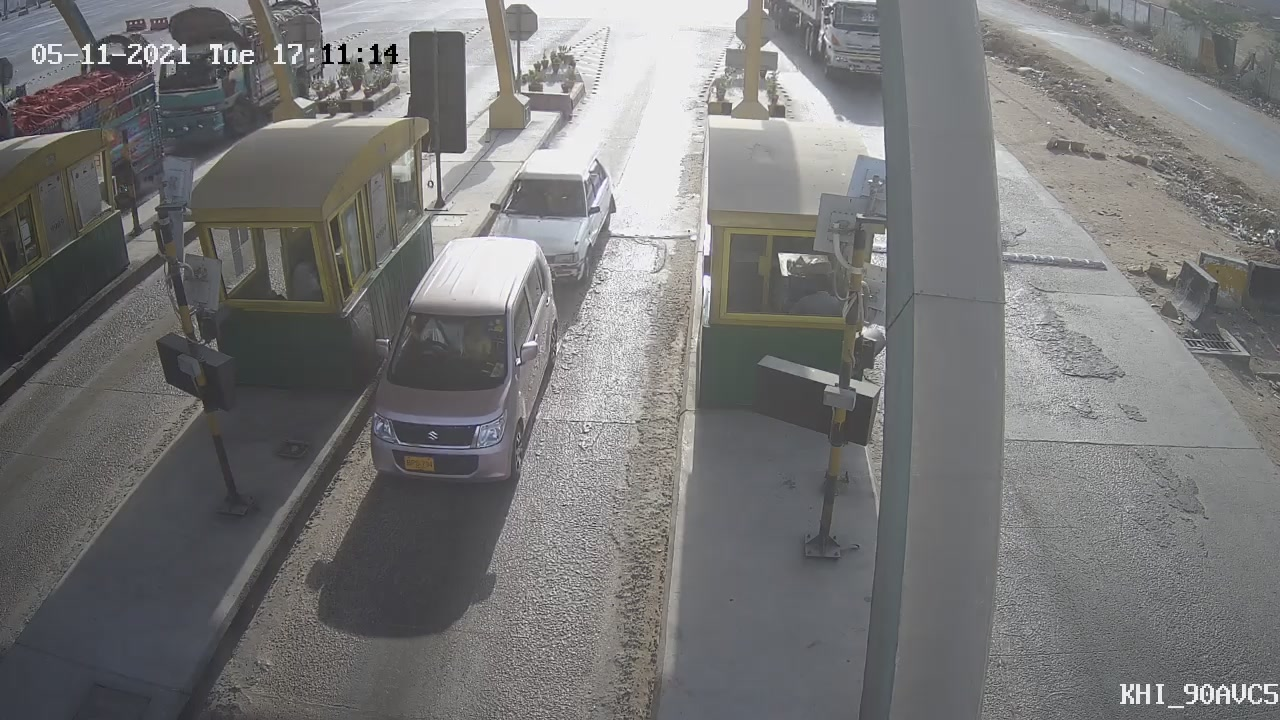F1: (346, 220, 581, 505)
